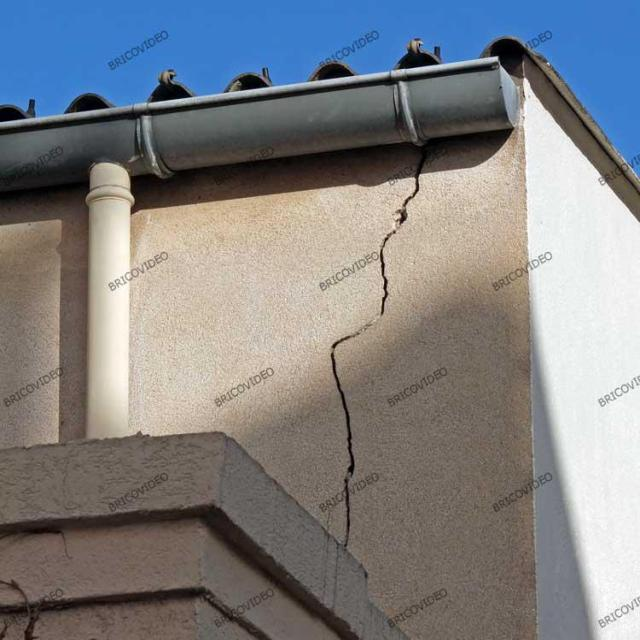crack: (329, 145, 434, 551)
